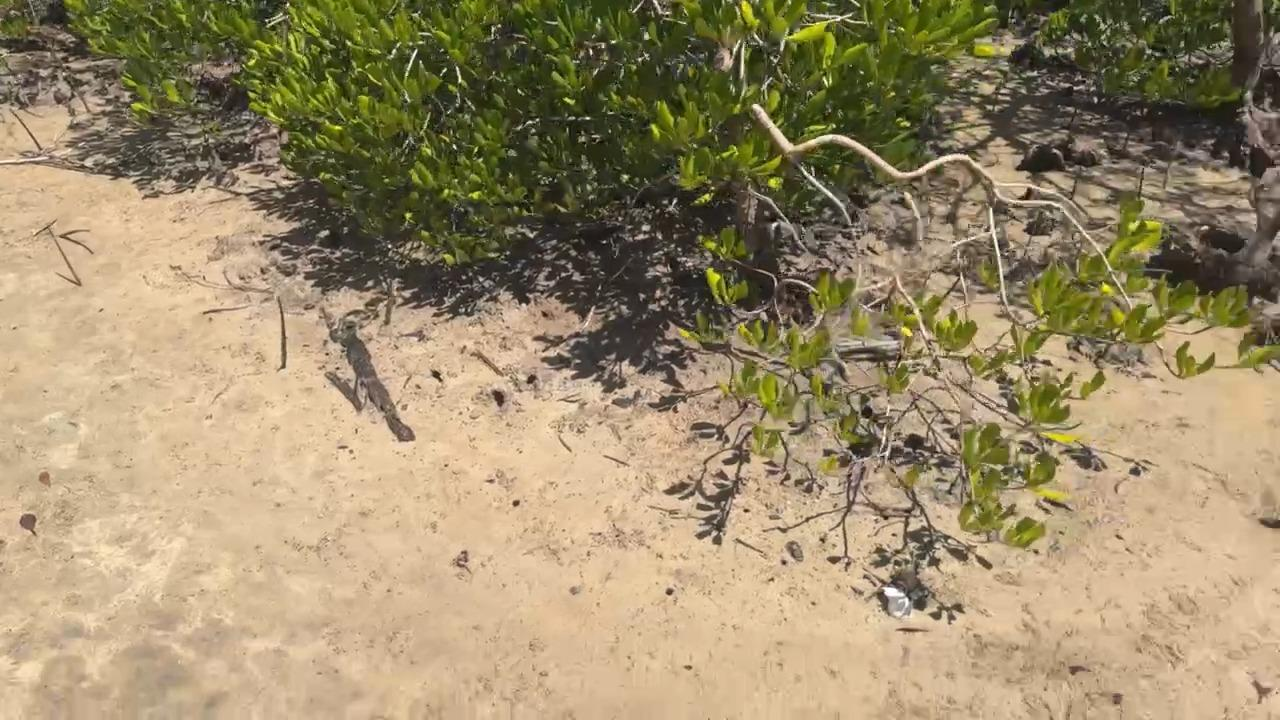Tree: (45, 226, 85, 287), (8, 107, 44, 152), (275, 297, 287, 368), (381, 276, 397, 325), (72, 86, 92, 114), (1137, 166, 1146, 195), (1070, 175, 1076, 201)
